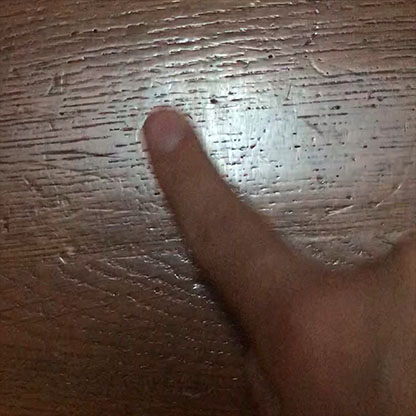fingertip: (137, 101, 206, 170)
